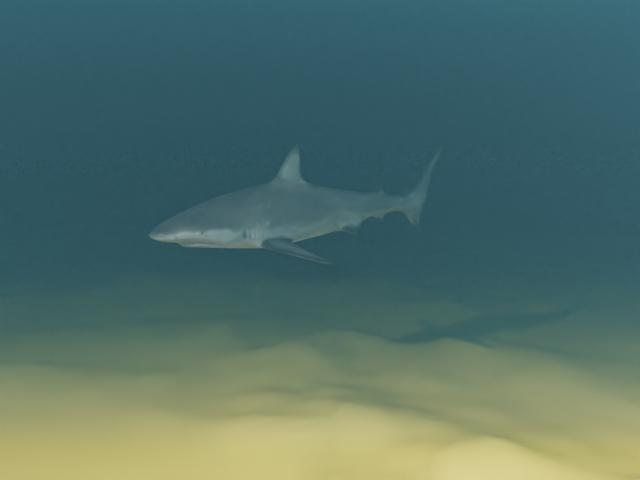Carribean Shark.001: (149, 144, 445, 264)
